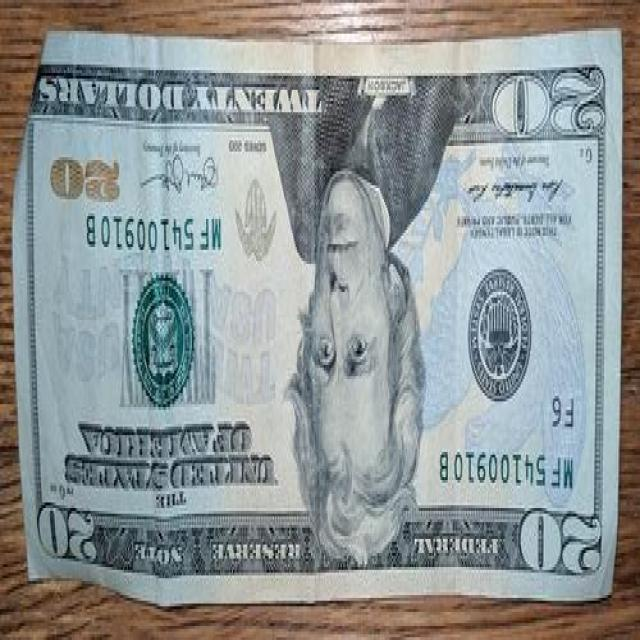20-Front: (13, 28, 622, 606)
